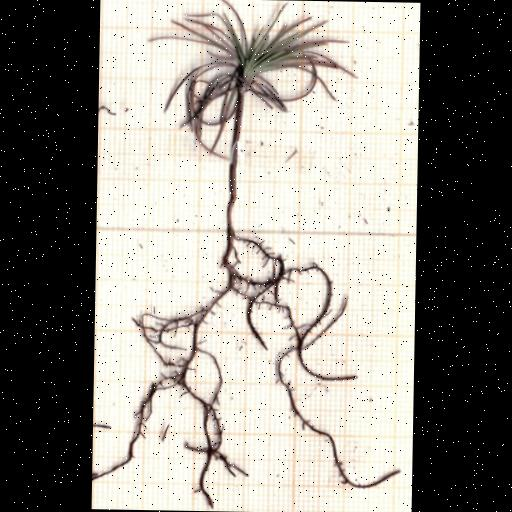flowerCedr: (155, 0, 356, 156)
rootCedr: (126, 237, 363, 508)
stemCedr: (226, 95, 246, 246)
